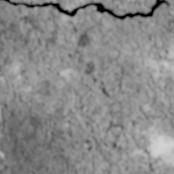brick: (0, 0, 173, 173), (13, 0, 154, 13)
crack: (2, 0, 171, 20)
